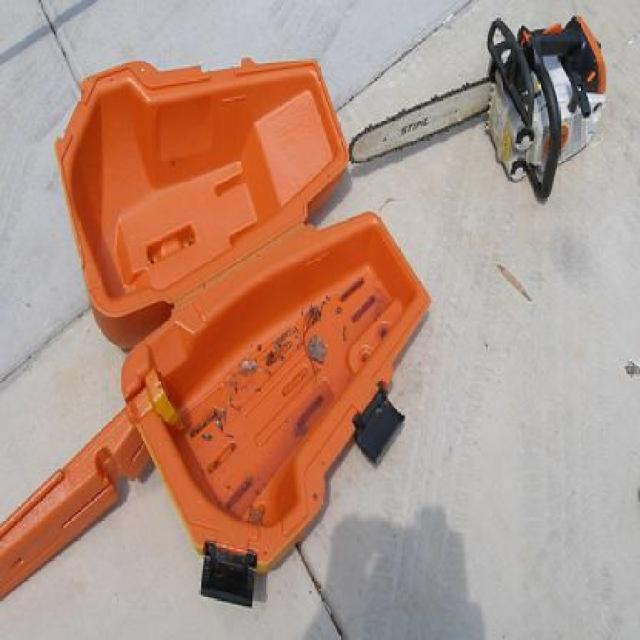Chainsaw: (348, 15, 609, 202)
